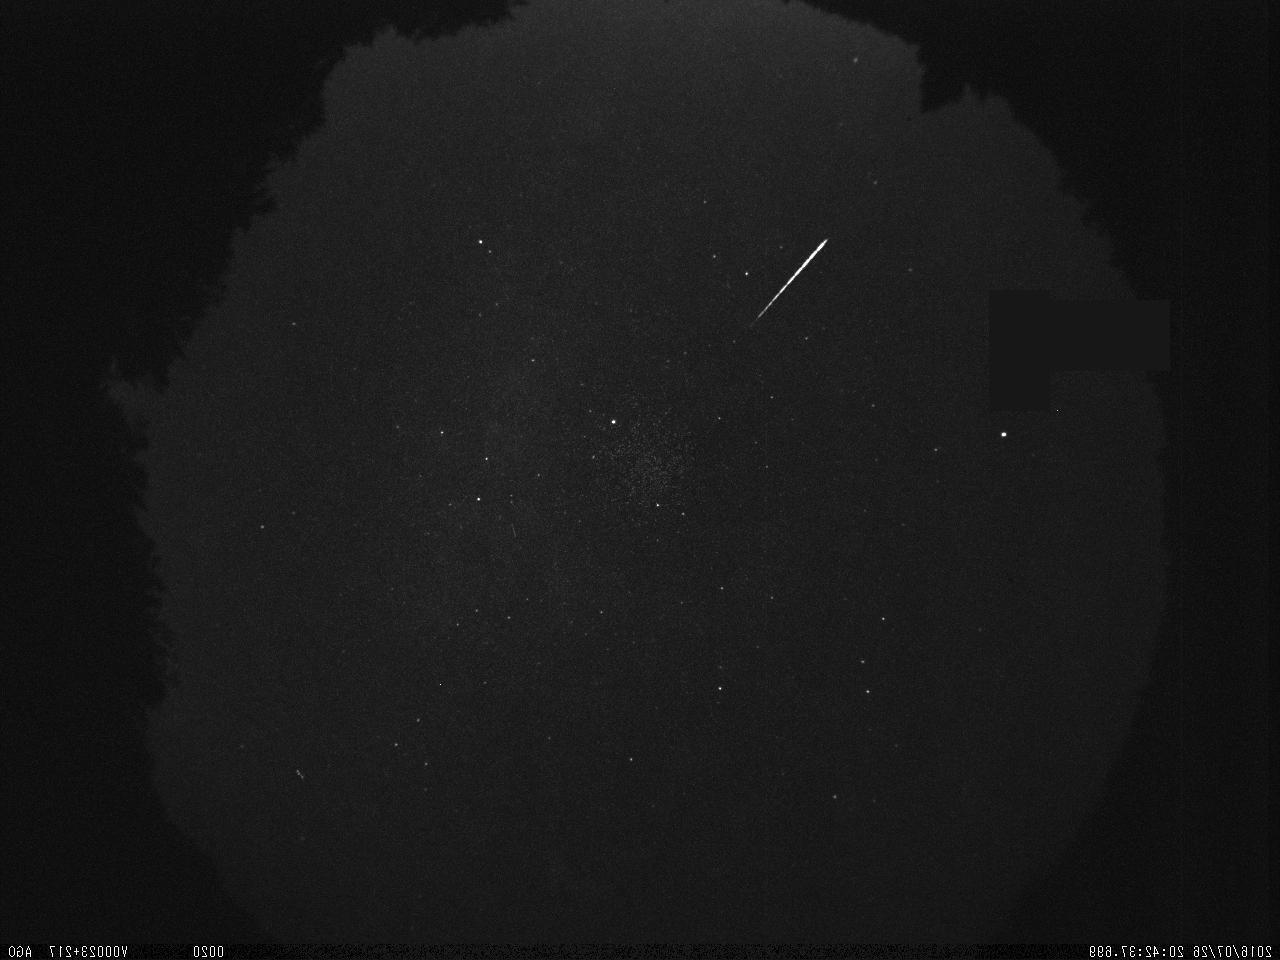meteor: (733, 230, 847, 328)
